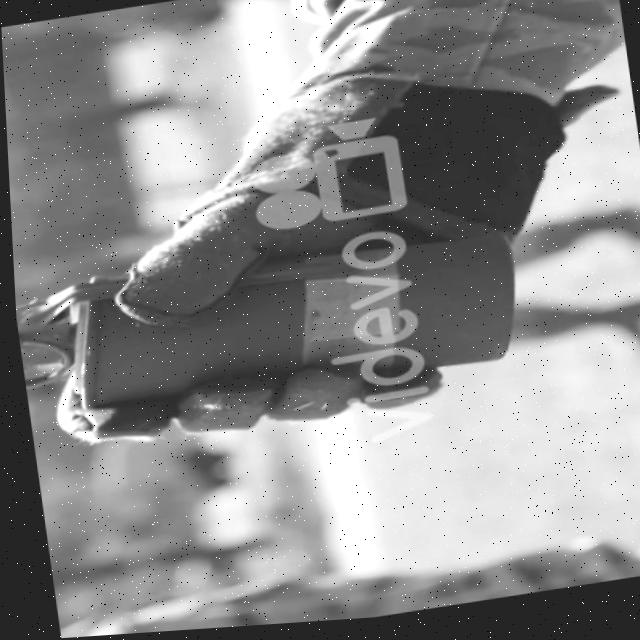grenade: (10, 218, 522, 449)
